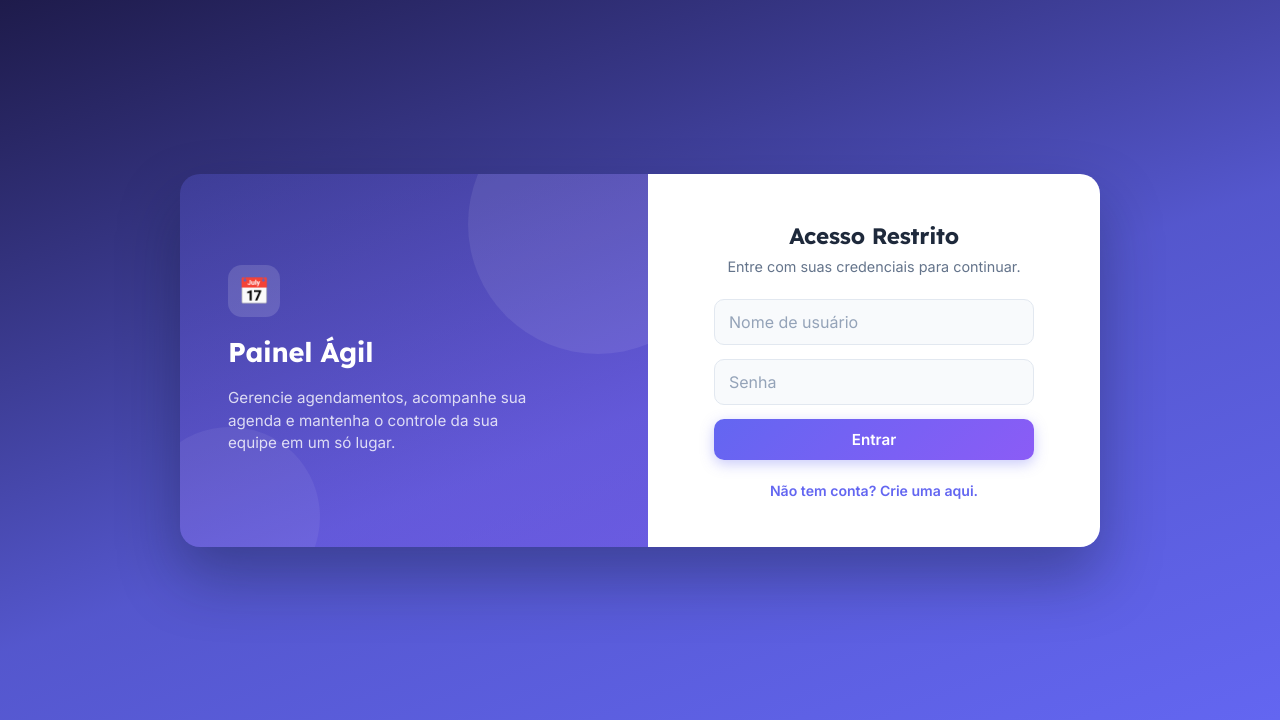
Test: Login › alterna para o modo de cadastro ao clicar no link
Click the text "Não tem conta? Crie uma aqui." at coordinates (874, 490), box [770,482,978,498]
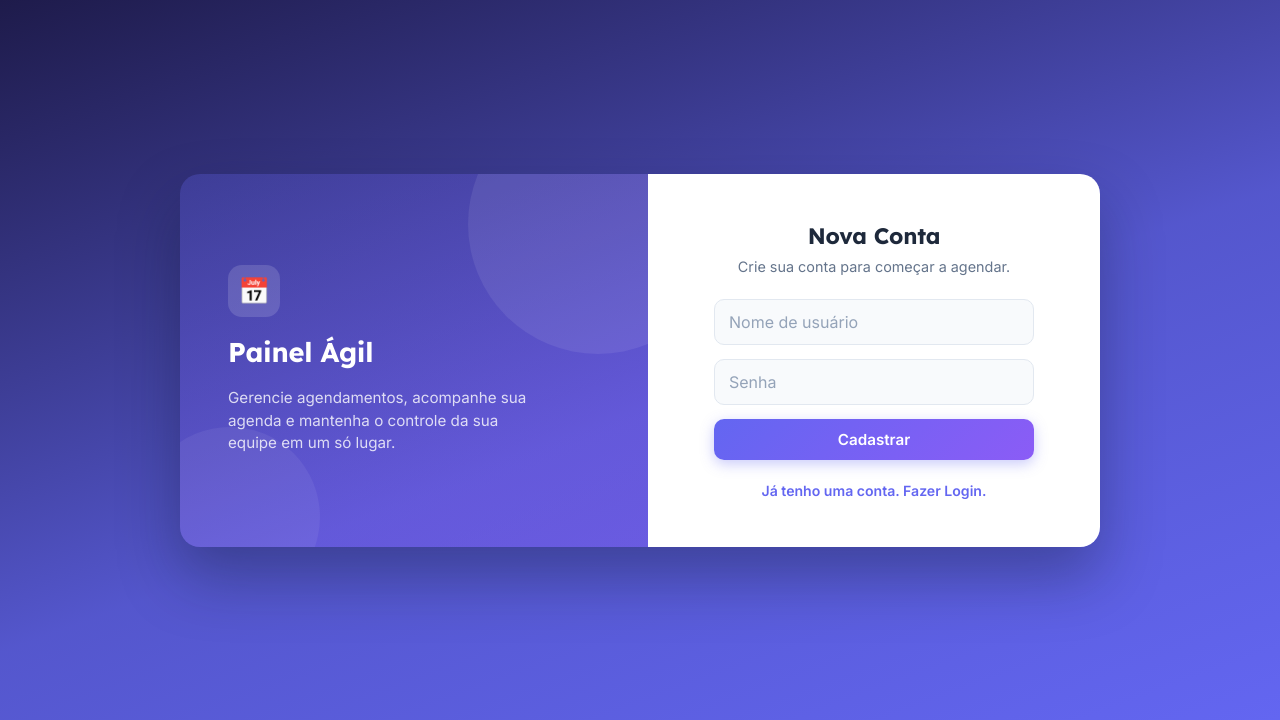
Expected: the button "Cadastrar" is shown, [714,418,1034,460]
